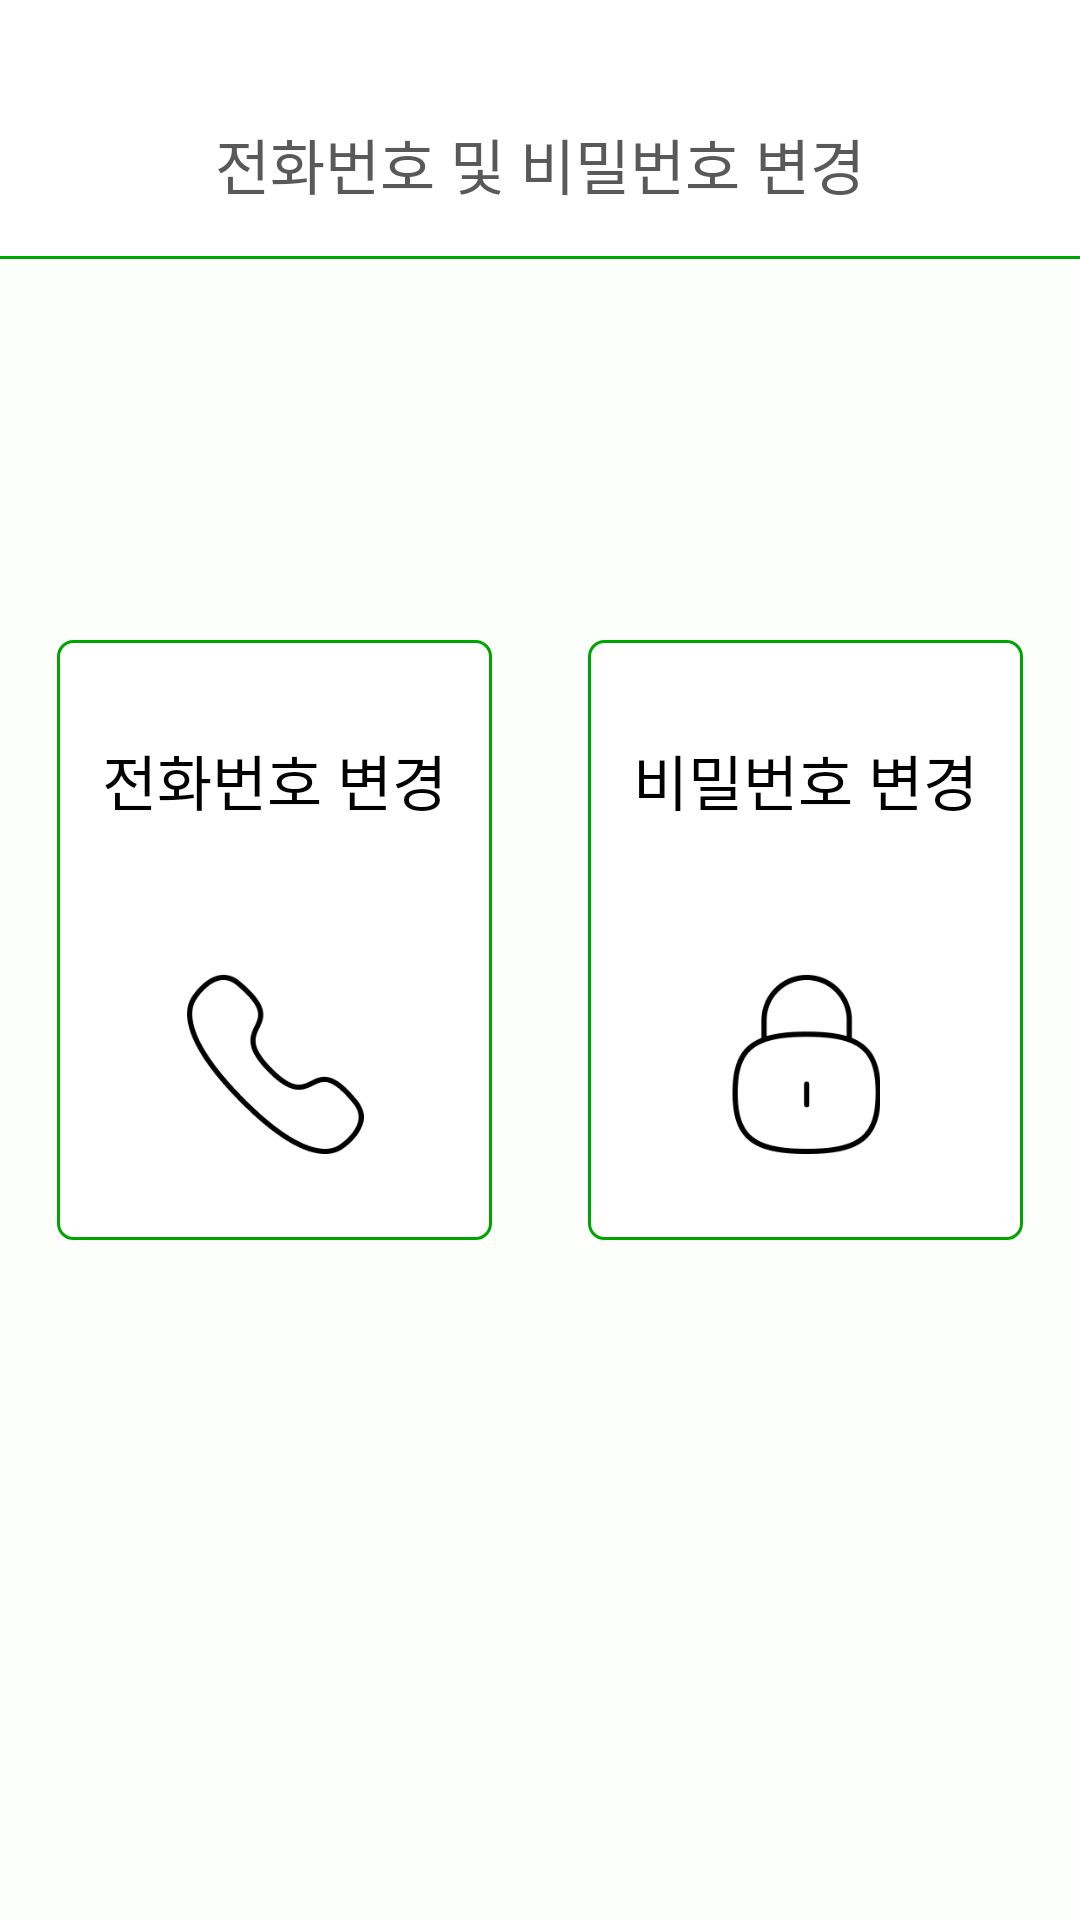

Named icons in this screenshot (1080×1920) and their bounding boxes, (x1, y1, x2, y2):
passwd: (732, 975, 880, 1154)
phone: (187, 975, 364, 1154)
